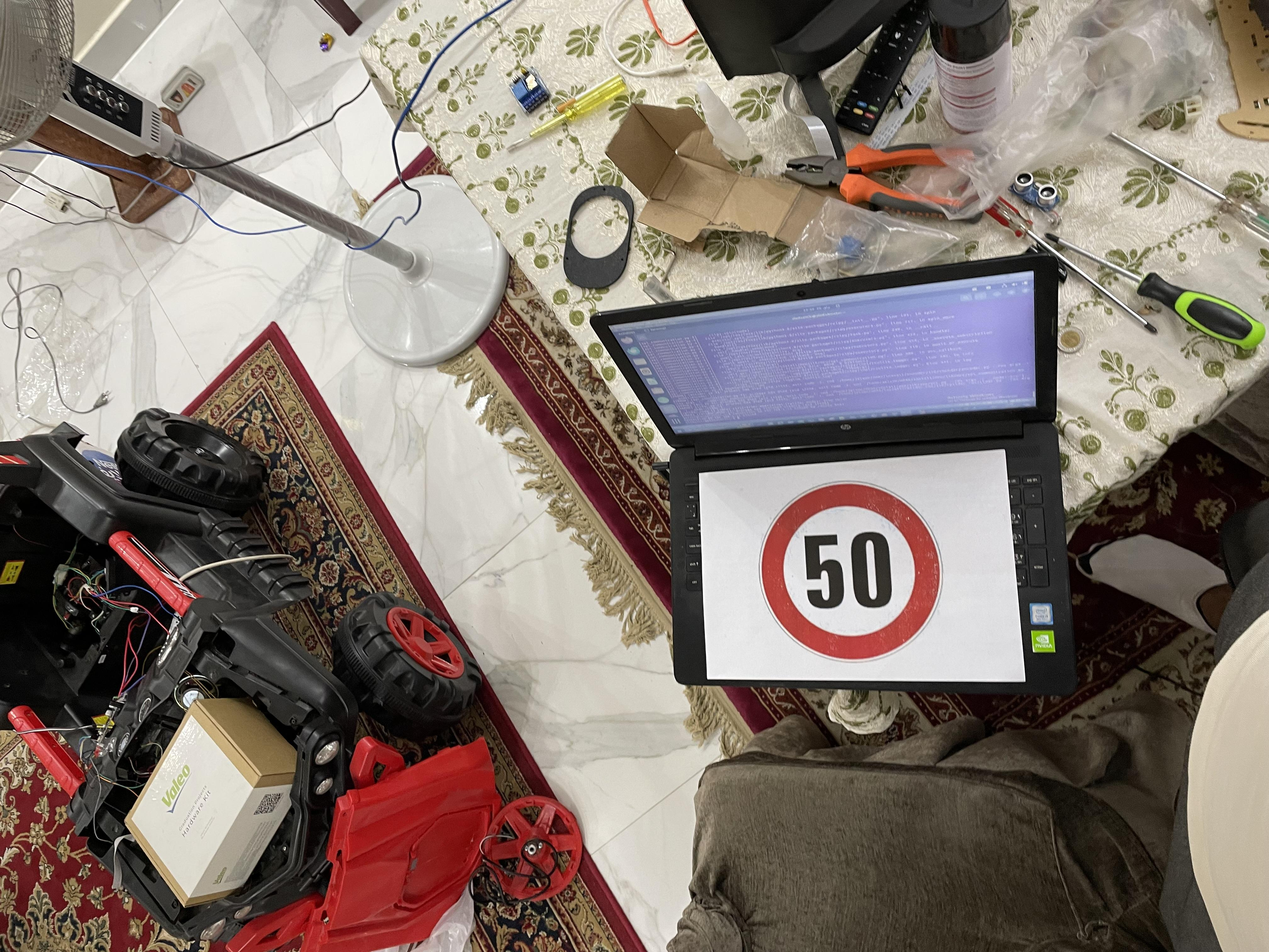50-Speed: (395, 560, 616, 717)
